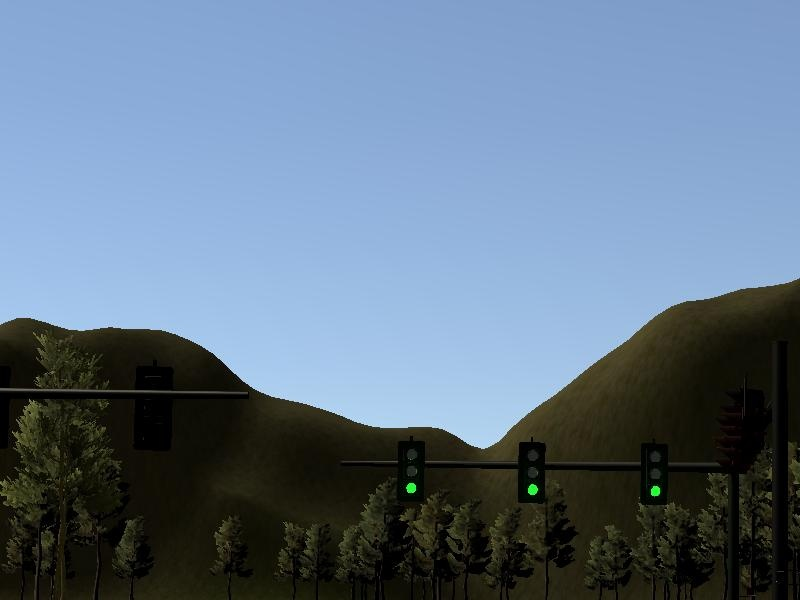GREEN: (640, 443, 672, 505), (517, 444, 546, 503), (396, 443, 425, 500)
